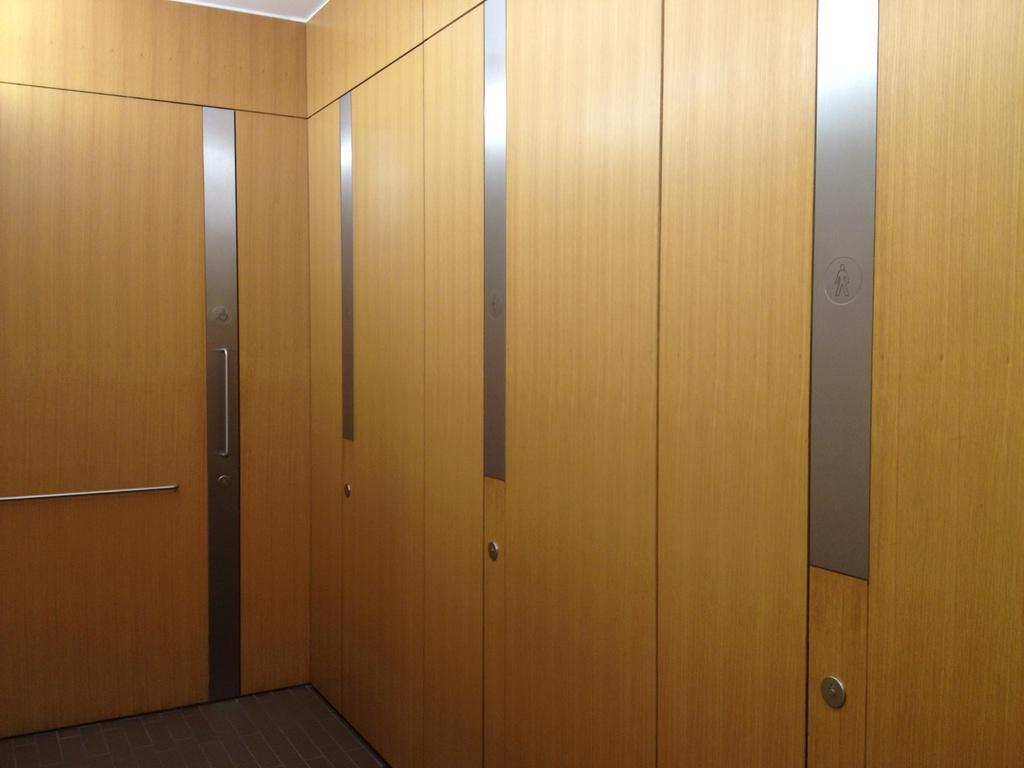door: (0, 109, 229, 718), (0, 479, 190, 514)
handle: (214, 340, 234, 458)
